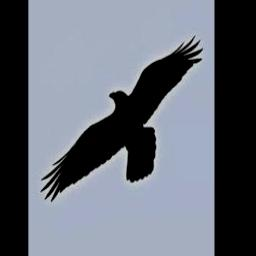Crow: (40, 35, 203, 203)
